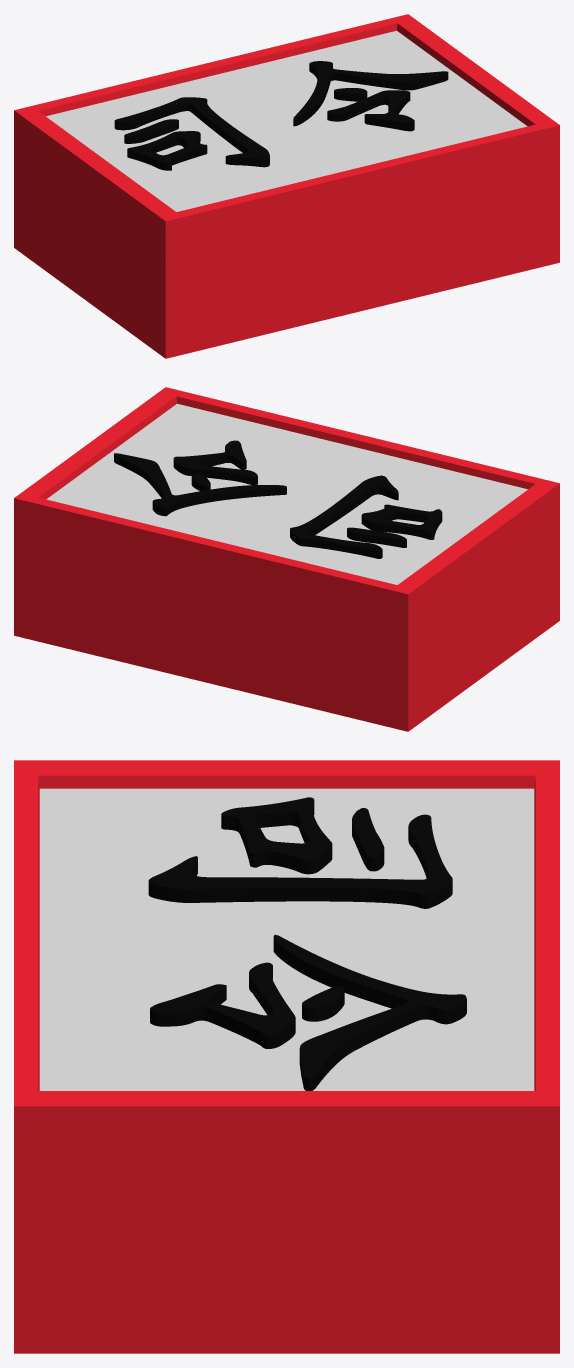
File: 1_si_ling.fbx
The picture shows the model from 3 angles, top to bottom: view 1: azimuth 30°, elevation 25°; view 2: azimuth 150°, elevation 25°; view 3: azimuth 270°, elevation 25°; orthographic projection. The views are drawn at different scales.
Parts seen in each view (by area): view 1: Cube, 文本; view 2: Cube, 文本; view 3: Cube, 文本.
Boxes of the visible parts, x1,y1,x2,y2 form: Cube: (14,14,559,358); 文本: (114,61,448,170); Cube: (14,387,559,731); 文本: (114,440,442,558); Cube: (14,760,559,1353); 文本: (148,797,466,1090).
Size of the model in its own units: 240 by 80.47 by 160.
